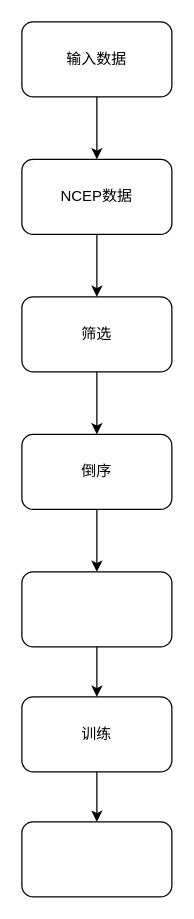
Image size: 194x919. Some labels were removed from this diagram. The centre of each missing label's shape, as x and y in pixels:
"插值" goes at point (96, 609).
"输出结果" goes at point (96, 859).
